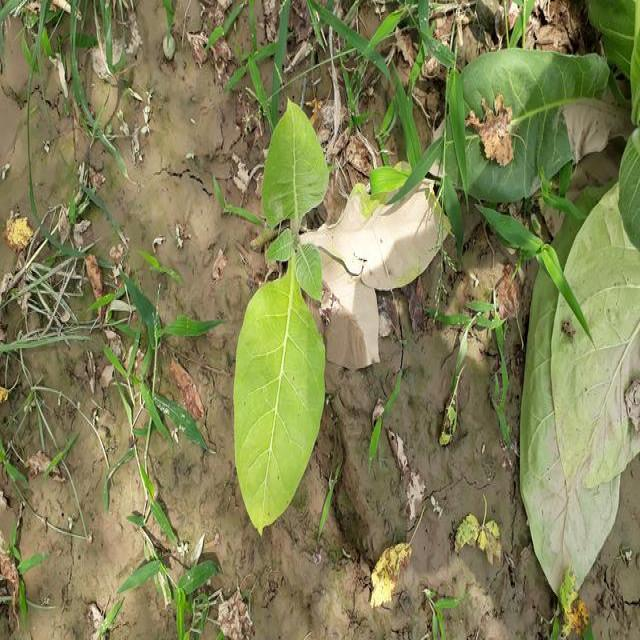crop: (457, 0, 639, 593), (235, 105, 447, 532)
